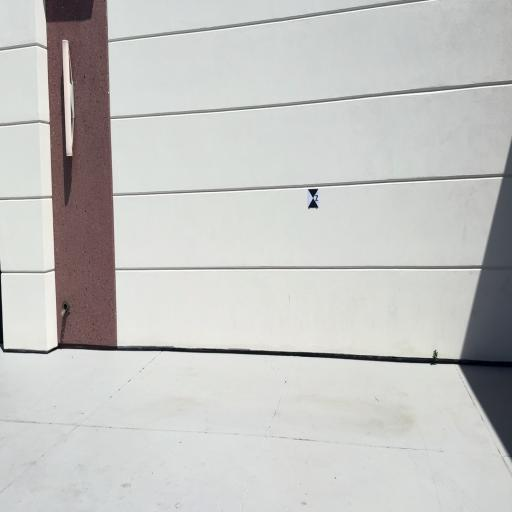target7: (308, 188, 319, 208)
